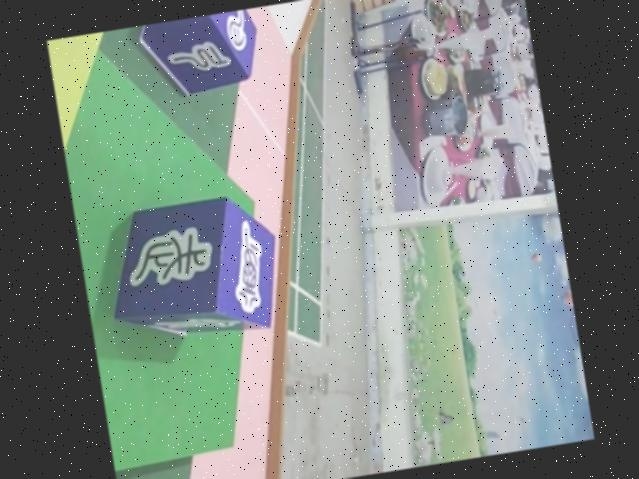R2 Fake Blue: (95, 191, 291, 355), (133, 8, 263, 104)
